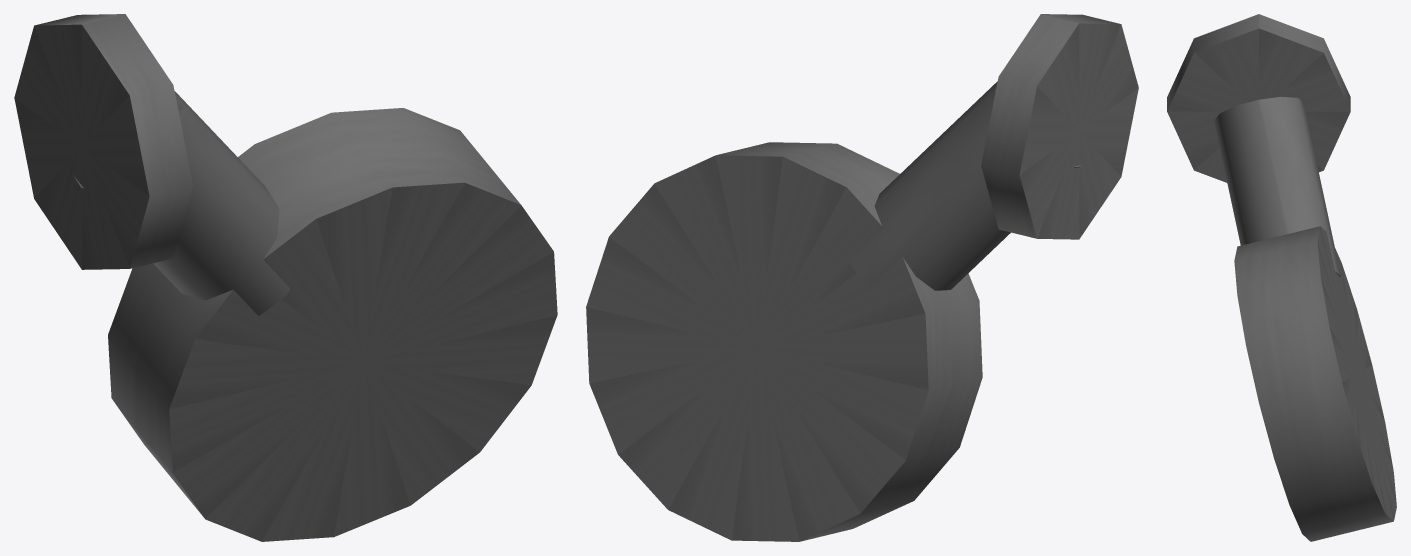
Rendered from mastarmcurve_5x1_c2_west.obj.
3 renders of one model, left to right at view 1: azimuth 30°, elevation 25°; view 2: azimuth 150°, elevation 25°; view 3: azimuth 270°, elevation 25°, orthographic. The views are drawn at different scales.
Visible parts, largest first — view 1: mastarm_5x1_c2_west; view 2: mastarm_5x1_c2_west; view 3: mastarm_5x1_c2_west.
Part boxes in pixels (x1,y1,x2,y2): mastarm_5x1_c2_west: (14,14,557,541); mastarm_5x1_c2_west: (586,14,1138,541); mastarm_5x1_c2_west: (1167,14,1396,541).
Bounding box in the file's own units: 0.833 × 1 × 0.5004.
